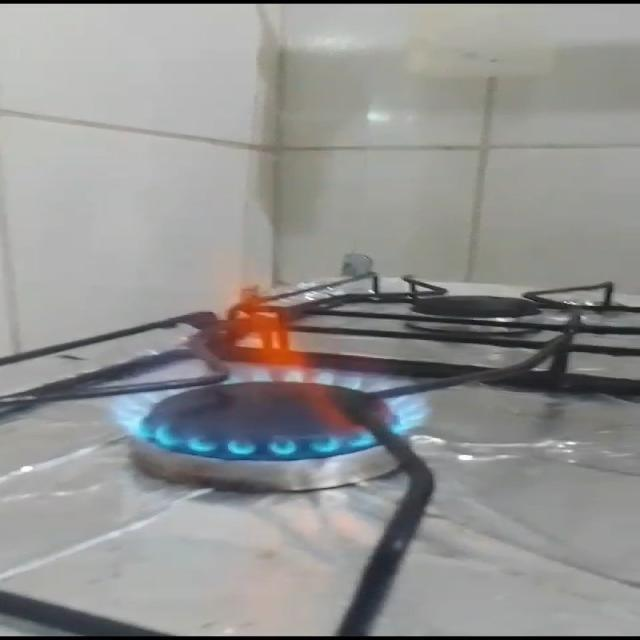fire: (90, 262, 442, 460)
